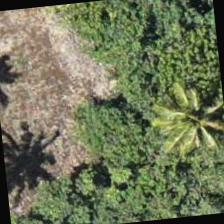Kelapa_Sawit: (146, 57, 223, 156)
